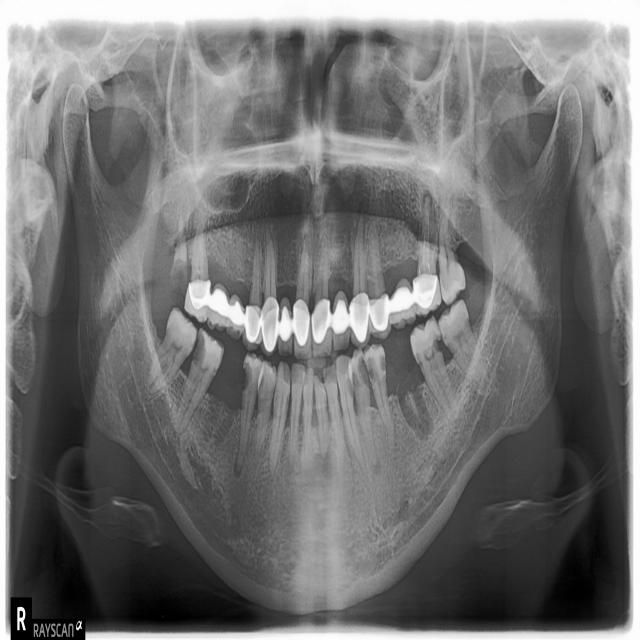mandibula: (62, 81, 580, 614)
